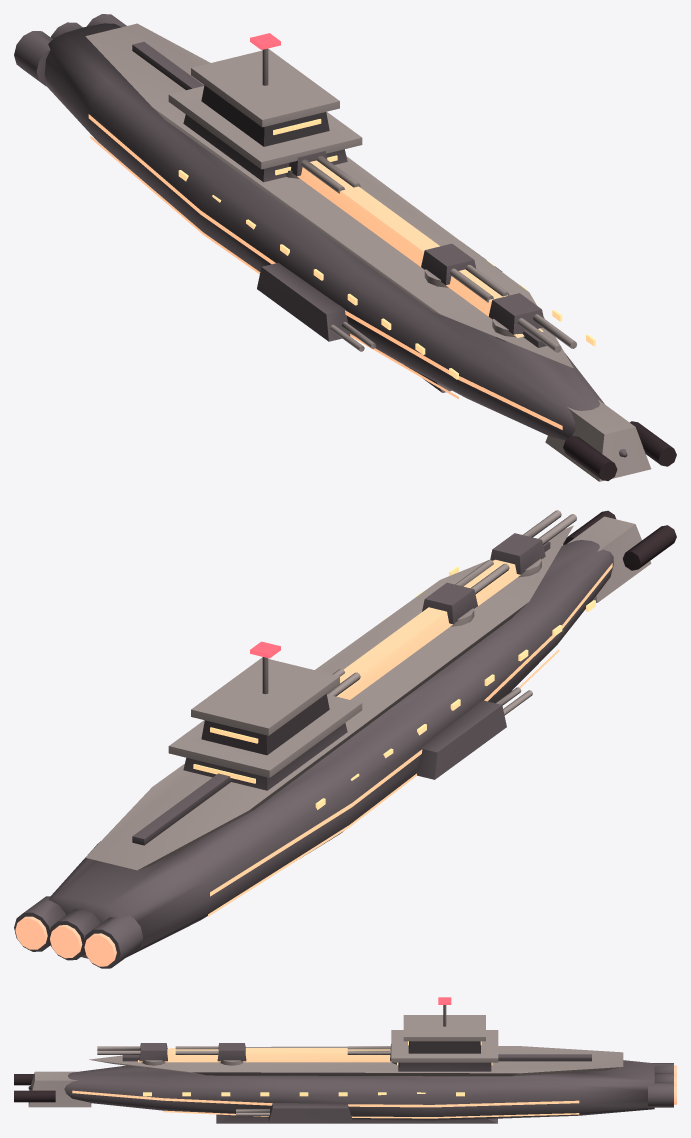
The model's file is ipc.glb.
The picture shows the model from 3 angles, top to bottom: view 1: azimuth 30°, elevation 25°; view 2: azimuth 150°, elevation 25°; view 3: azimuth 270°, elevation 25°; orthographic projection. The views are drawn at different scales.
Visible parts, largest first — view 1: ipc; view 2: ipc; view 3: ipc.
Part boxes in pixels (bbox=[...]): ipc: bbox=[14, 14, 676, 481]; ipc: bbox=[14, 510, 676, 968]; ipc: bbox=[14, 997, 676, 1123].
Size of the model in its own units: 4.56 by 4.99 by 25.42.
